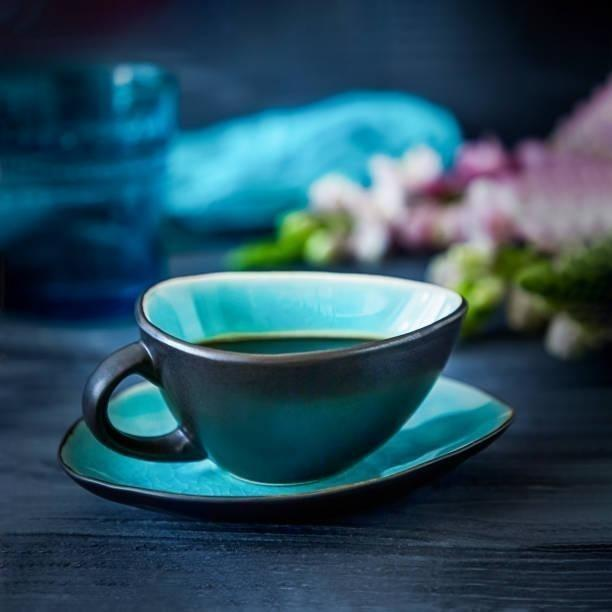cup-handle: (81, 269, 468, 488)
